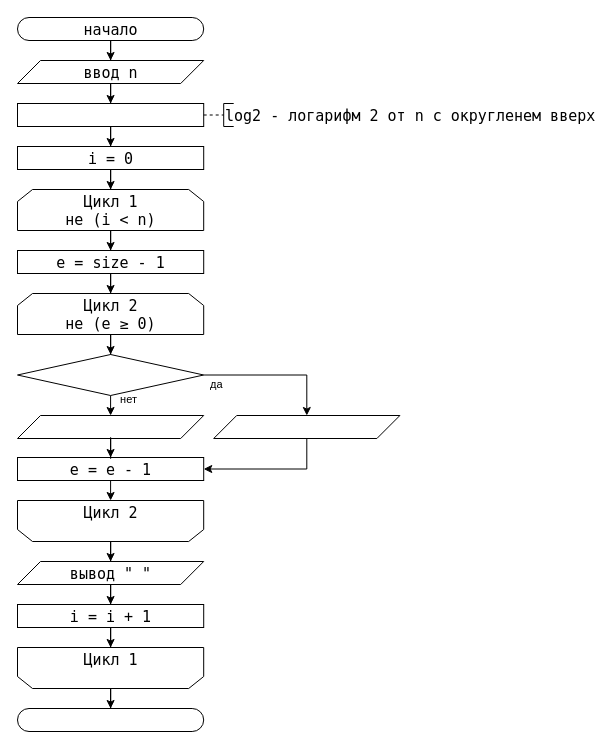
This 613x749 diagram has some shape labels left out. Here are the shapes that lost their labels. From the top down, the centre of each, then its label:
point (110, 114): size = log2(n)
point (110, 375): (i & (1 << e)) = 0
point (110, 426): вывод 1
point (306, 426): вывод 0
point (110, 720): конец
